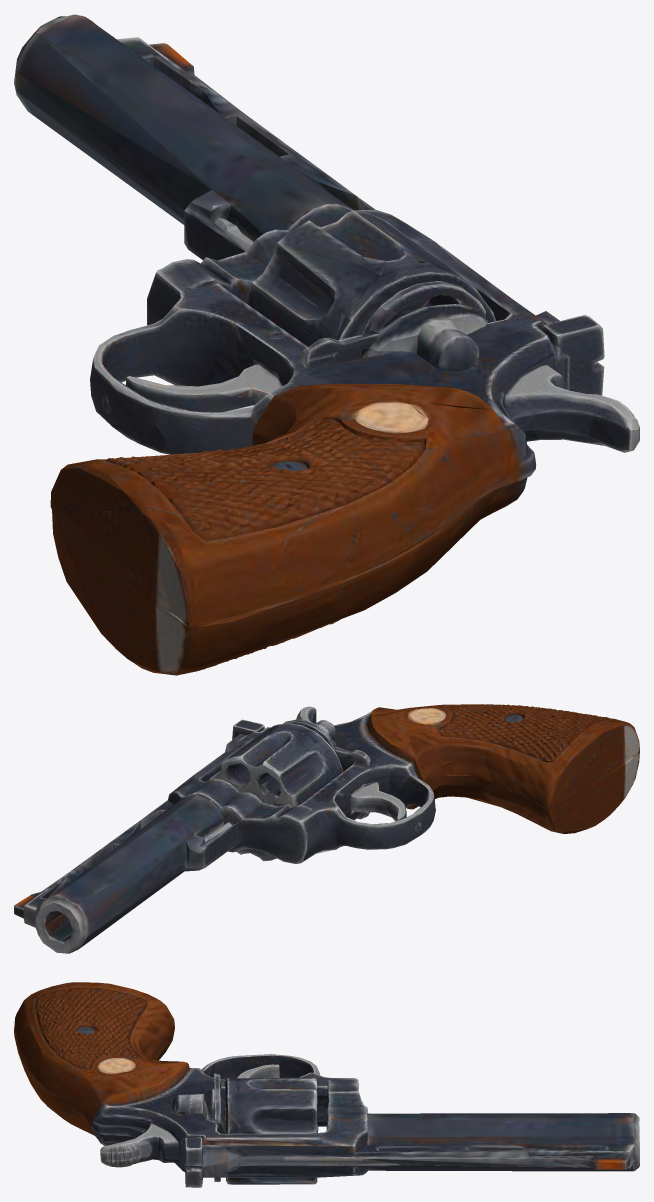
Rendered from revolver_prop.glb.
3 views of the same model, one above another, from view 1: azimuth 30°, elevation 25°; view 2: azimuth 150°, elevation 25°; view 3: azimuth 270°, elevation 25° (orthographic). The views are drawn at different scales.
Parts seen in each view (by area): view 1: Mesh_0; view 2: Mesh_0; view 3: Mesh_0.
Boxes of the visible parts, x1,y1,x2,y2 form: Mesh_0: (14,14,639,675); Mesh_0: (14,704,639,953); Mesh_0: (14,982,639,1187).
Size of the model in its own units: 0.1546 by 0.048 by 0.28.
Materials: 1 (1 with a texture image).
